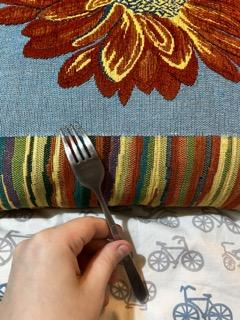fork: (58, 119, 150, 304)
